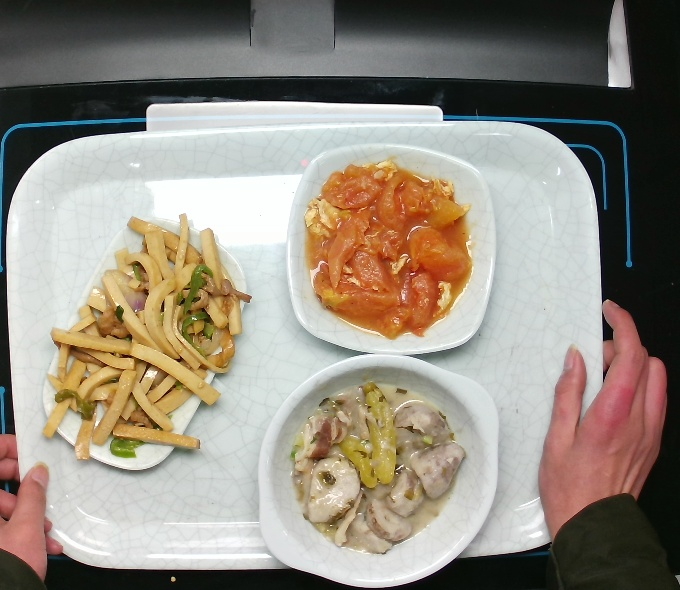wcq-FanQieChaoDan: (297, 154, 478, 344)
wcq-QianYeDouFu: (32, 209, 256, 477)
wcq-YangYu: (286, 379, 471, 557)
